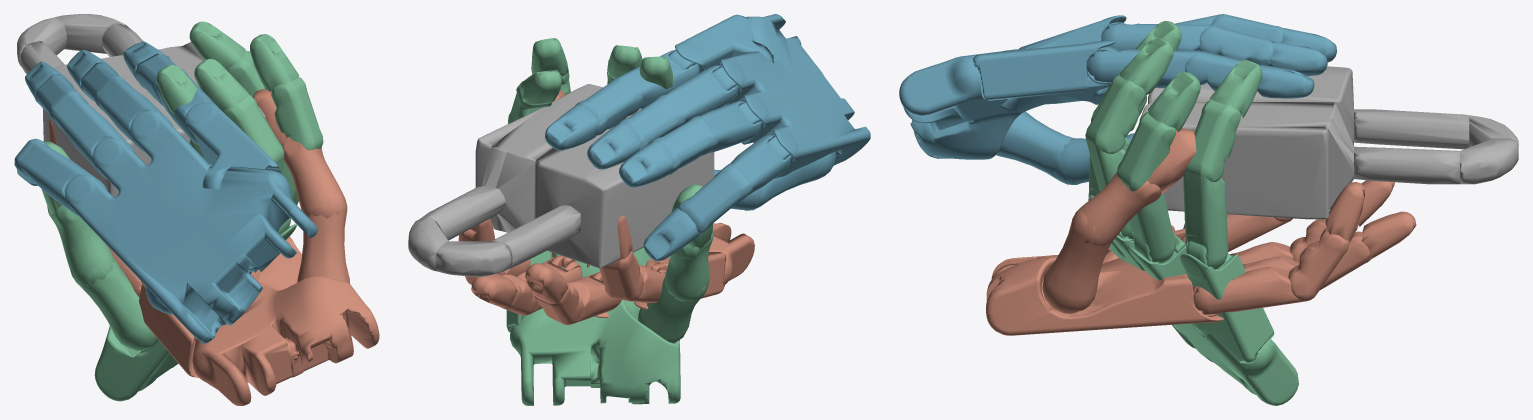
3 renders of one model, left to right at view 1: azimuth 30°, elevation 25°; view 2: azimuth 150°, elevation 25°; view 3: azimuth 270°, elevation 25°, orthographic. The views are drawn at different scales.
Bounding box in the file's own units: 0.1465 × 0.1796 × 0.2934.
